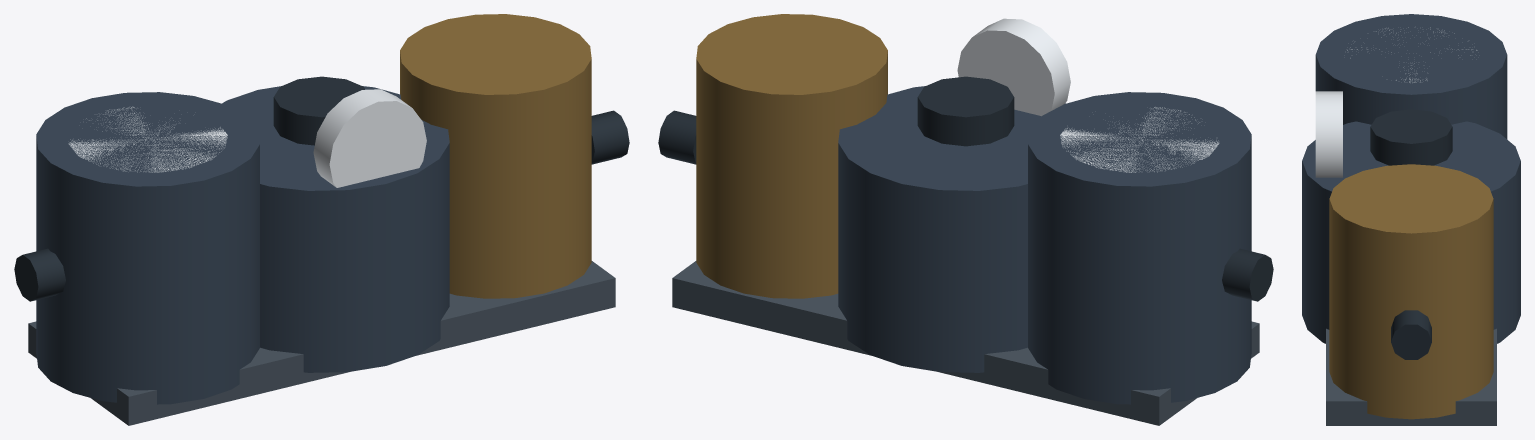
File: pneumatic-unit.glb
3 renders of one model, left to right at view 1: azimuth 30°, elevation 25°; view 2: azimuth 150°, elevation 25°; view 3: azimuth 270°, elevation 25°, orthographic. The views are drawn at different scales.
Bounding box in the file's own units: 0.85 × 0.37 × 0.32.
